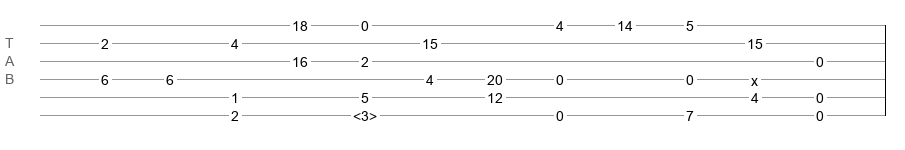0: (361, 18, 369, 28), (556, 108, 564, 118), (556, 72, 564, 82), (686, 72, 694, 82), (816, 108, 824, 118), (816, 54, 824, 64), (816, 90, 824, 100)
1: (231, 90, 239, 100)
12: (487, 90, 503, 100)
14: (617, 18, 633, 28)
15: (422, 36, 438, 46), (747, 36, 763, 46)
16: (292, 54, 308, 64)
18: (292, 18, 308, 28)
2: (101, 36, 109, 46), (231, 108, 239, 118), (361, 54, 369, 64)
20: (487, 72, 503, 82)
4: (231, 36, 239, 46), (426, 72, 434, 82), (556, 18, 564, 28), (751, 90, 759, 100)
5: (361, 90, 369, 100), (686, 18, 694, 28)
6: (101, 72, 109, 82), (166, 72, 174, 82)
7: (686, 108, 694, 118)
harmonic: (353, 108, 377, 118)
x: (751, 73, 758, 81)
